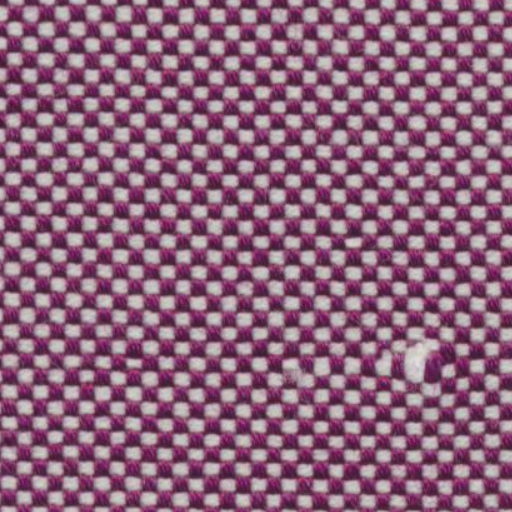DaiSha: (288, 326, 478, 398)
